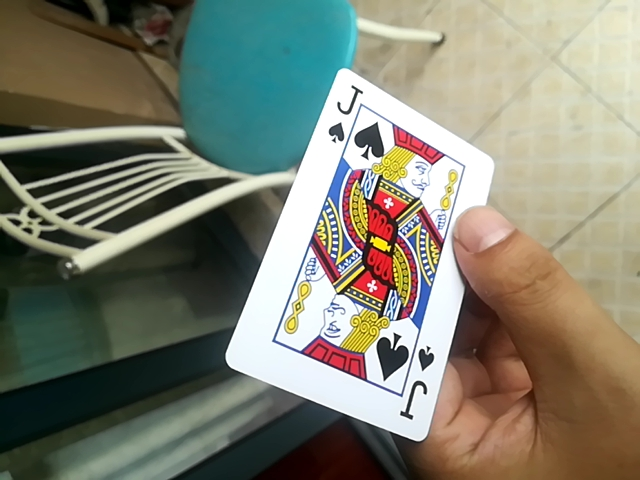ht j: (219, 68, 500, 451)
